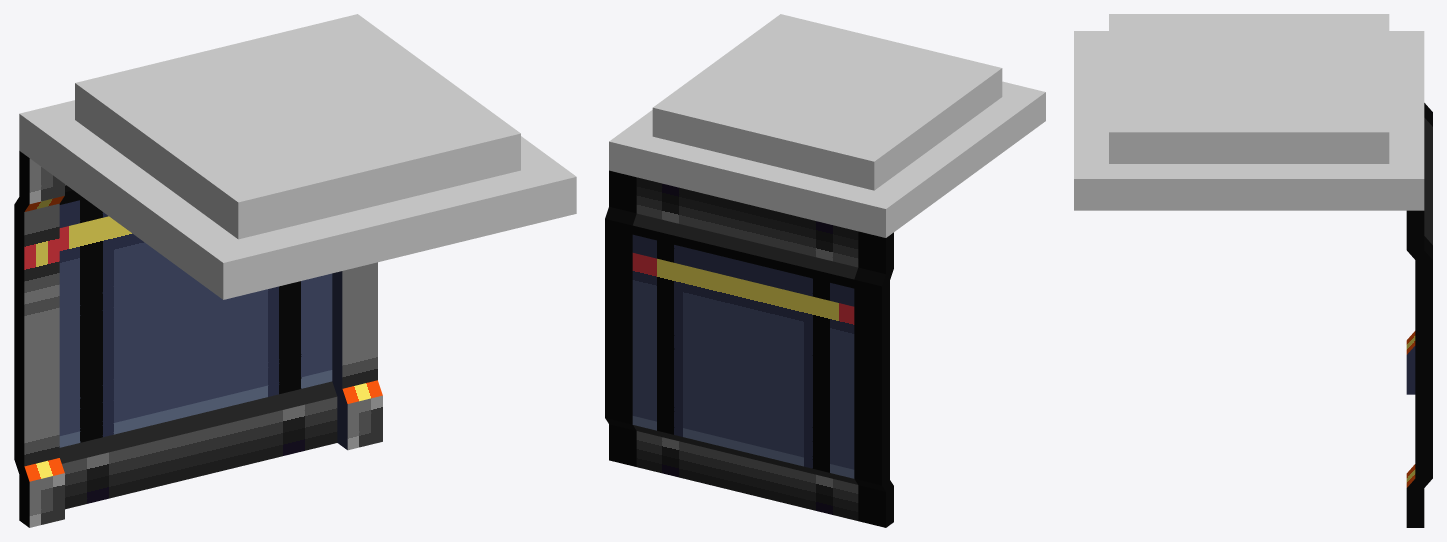
The model's file is 001-ESW.glb.
The picture shows the model from 3 angles, left to right: view 1: azimuth 30°, elevation 25°; view 2: azimuth 150°, elevation 25°; view 3: azimuth 270°, elevation 25°; orthographic projection. The views are drawn at different scales.
Parts seen in each view (by area): view 1: Roof, N; view 2: N, Roof; view 3: Roof, N.
Boxes of the visible parts, box(x1,y1,x2,y2) form: Roof: box(19, 14, 576, 299); N: box(14, 151, 382, 527); N: box(605, 170, 893, 527); Roof: box(609, 14, 1045, 237); Roof: box(1074, 14, 1424, 210); N: box(1406, 103, 1432, 527).
Bounding box in the file's own units: 2 × 2.4 × 2.05.
2 materials, 1 textured.
